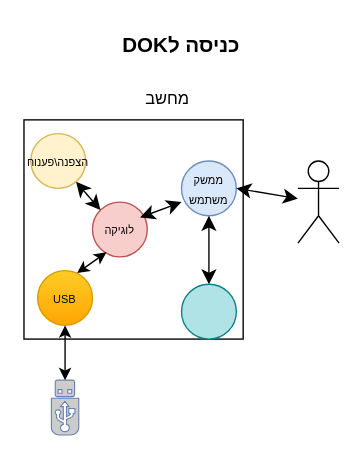
Some shapes in this 363 by 459 pixel diagram are drawn without their labels. The centre of each missing label's shape, as x and y in pixels:
"Actor" goes at point 318,201.
"בדיקות תקינות" goes at point 208,311.
